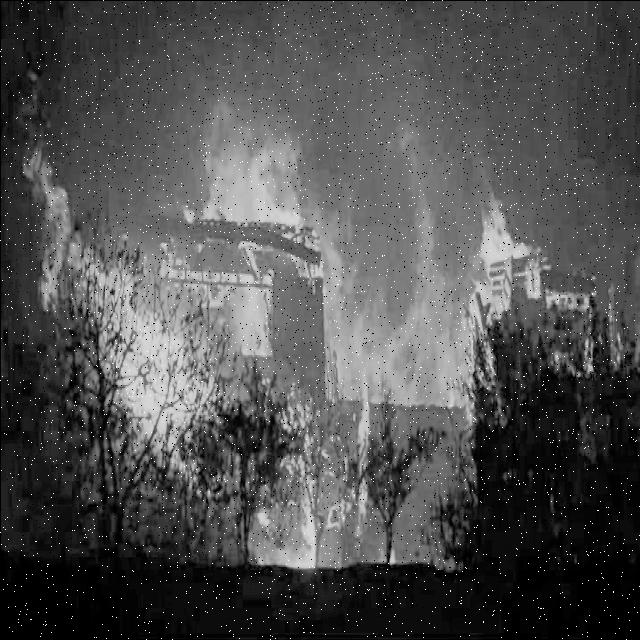api: (15, 127, 216, 495), (310, 122, 474, 420), (179, 74, 305, 230), (452, 166, 541, 268), (252, 486, 320, 584), (351, 366, 377, 541)
